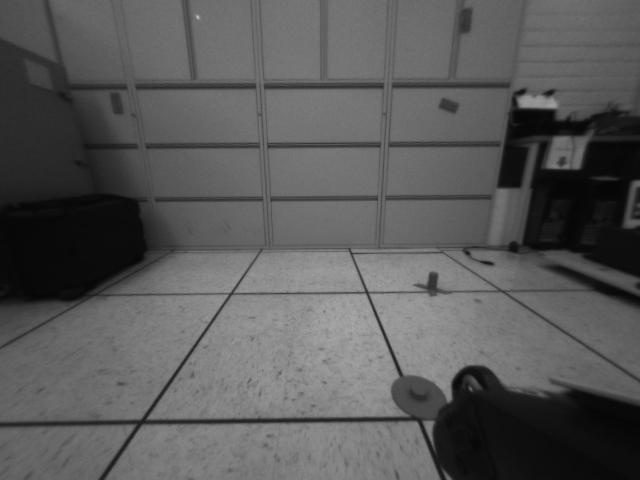X: (414, 272, 453, 295)
